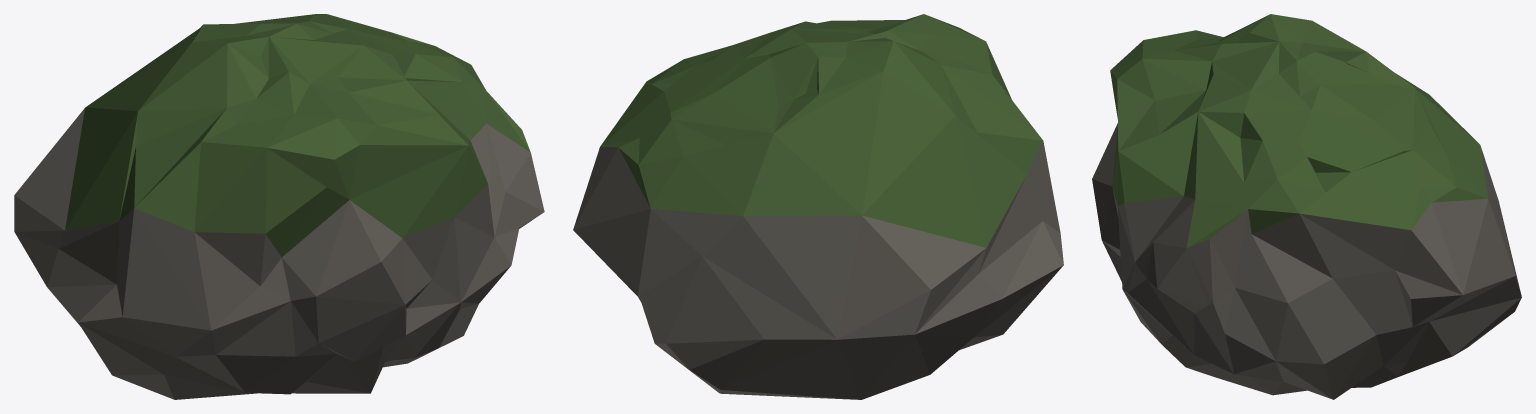
The model's file is rockball-1.glb.
The picture shows the model from 3 angles, left to right: view 1: azimuth 30°, elevation 25°; view 2: azimuth 150°, elevation 25°; view 3: azimuth 270°, elevation 25°; orthographic projection. The views are drawn at different scales.
Parts seen in each view (by area): view 1: output_unwrapped; view 2: output_unwrapped; view 3: output_unwrapped.
Boxes of the visible parts, x1,y1,x2,y2 form: output_unwrapped: (14, 14, 544, 399); output_unwrapped: (573, 14, 1063, 399); output_unwrapped: (1092, 14, 1521, 399).
Size of the model in its own units: 1.99 by 1.45 by 1.88.
